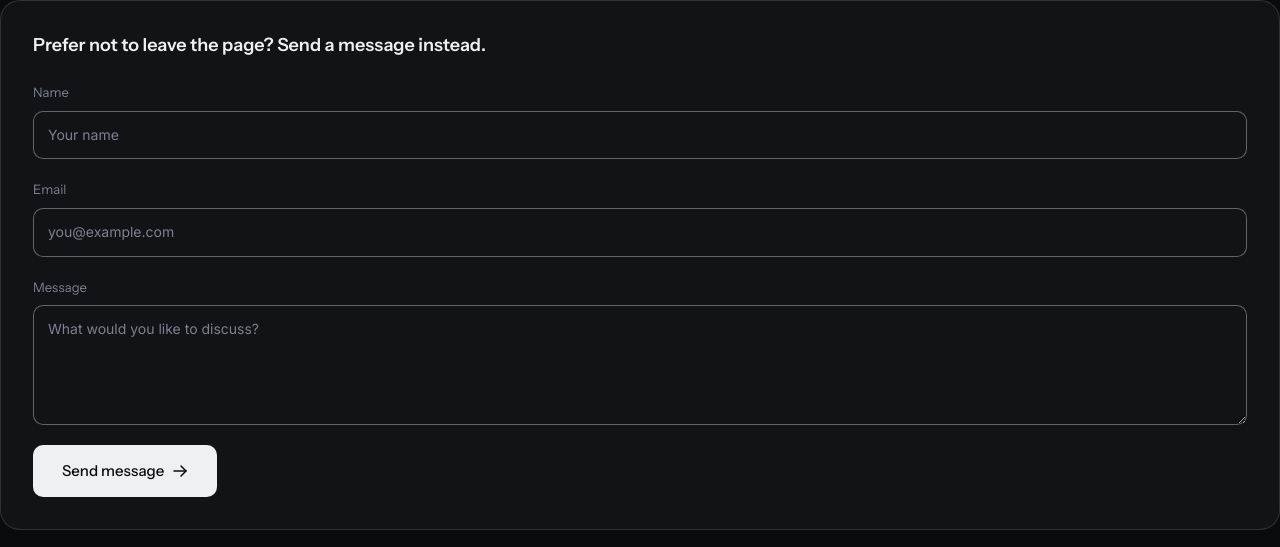
Test: ContactForm › replaces the form with a confirmation that echoes the email after a successful send
The width and height of the screenshot is (1280, 547).
Type "Ana Torres" into the field labelled "Name" at (640, 135), box [33,111,1247,159]
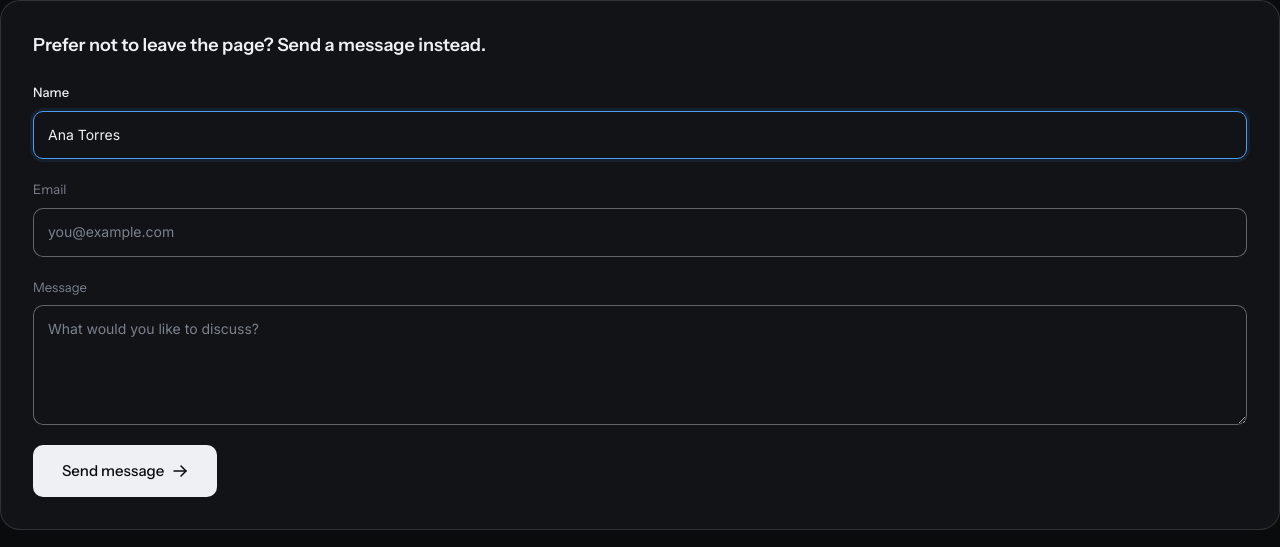
Type "ana@studio.co" into the field labelled "Email" at (640, 232), box [33,208,1247,257]
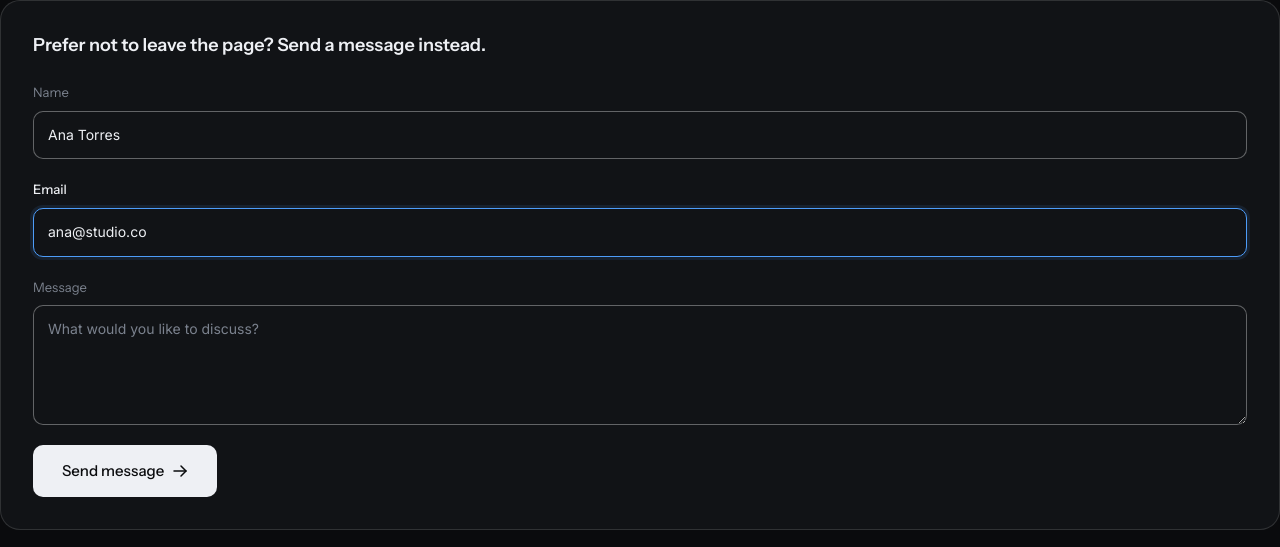
Type "Hi Juan" into the text box labelled "Message" at (640, 365), box [33,305,1247,425]
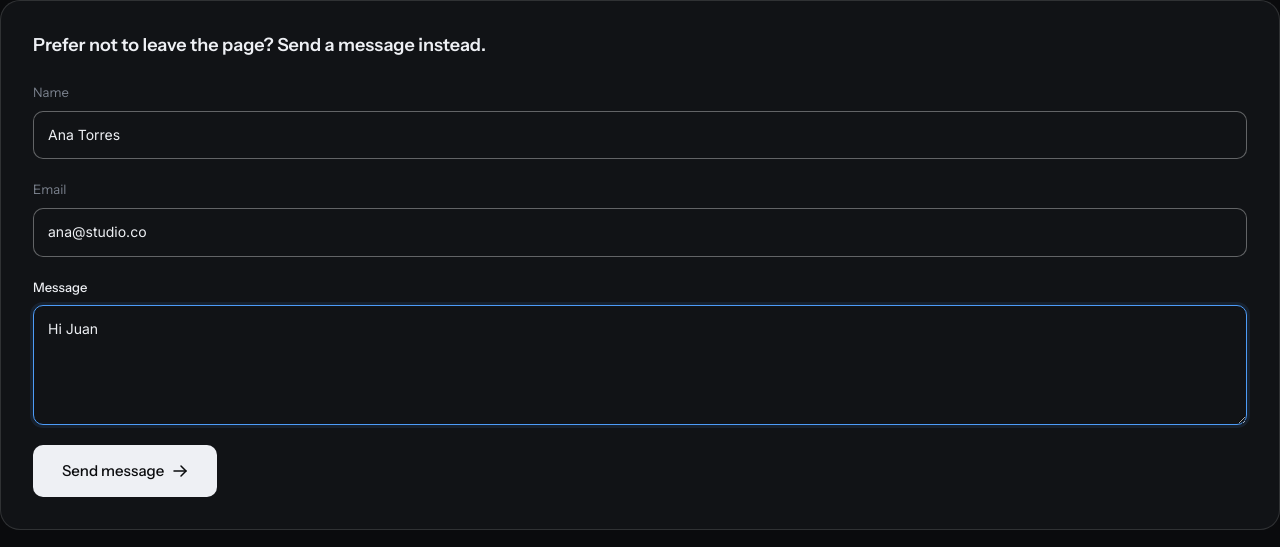
Click the button "Send message" at (125, 471), box [33,445,217,497]
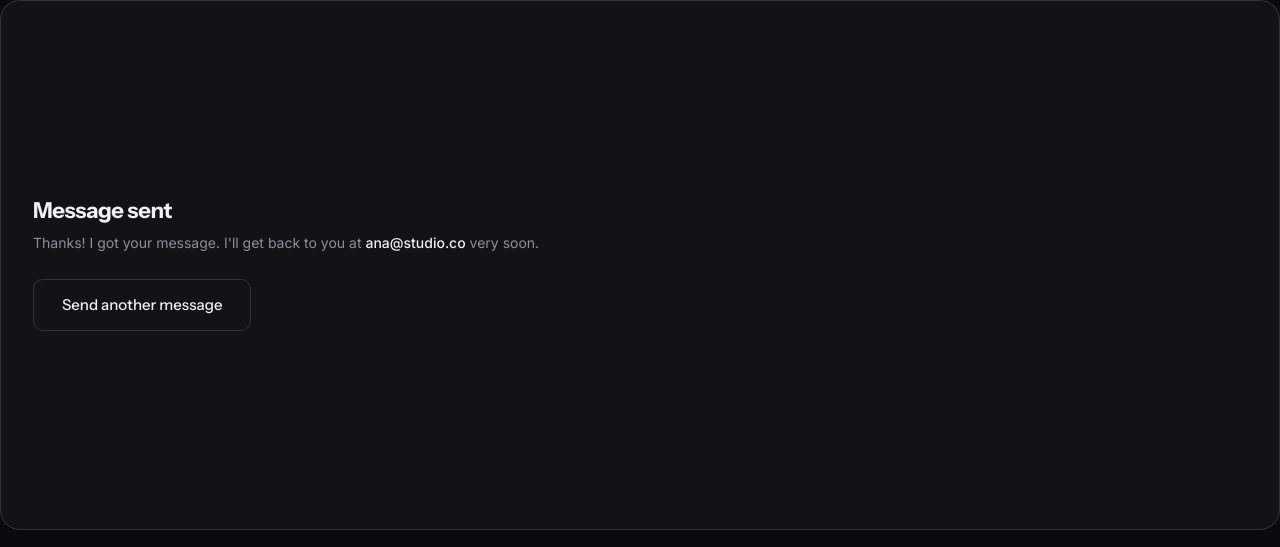
Expected: the text "ana@studio.co" is shown, [365,234,466,251]
Expected: the text labelled "Name" is gone
Expected: the button "Send message" is gone
